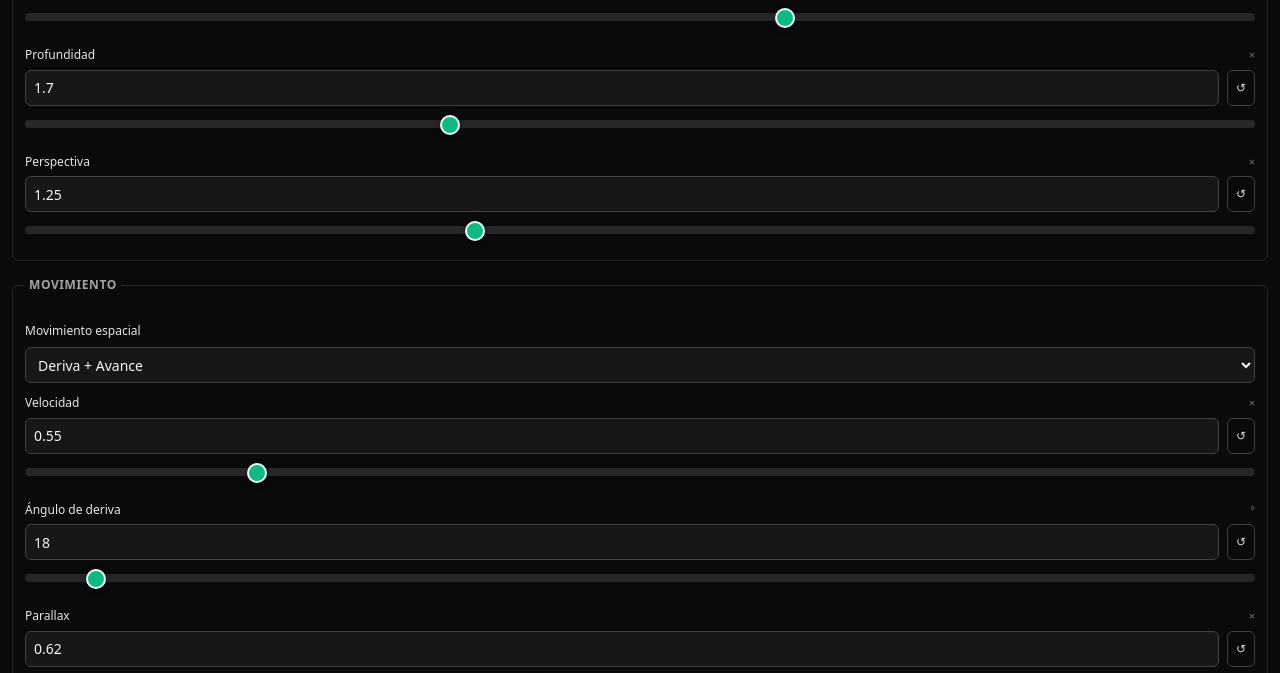
Test: integrated inspector tabs › expone controles Stellar condicionales y escribe en la autoridad compartida
(page scrolled)
Select "Deriva" in the dropdown labelled "Movimiento espacial" at (640, 365), box top-left (25, 347), bottom-right (1255, 383)
(page scrolled)
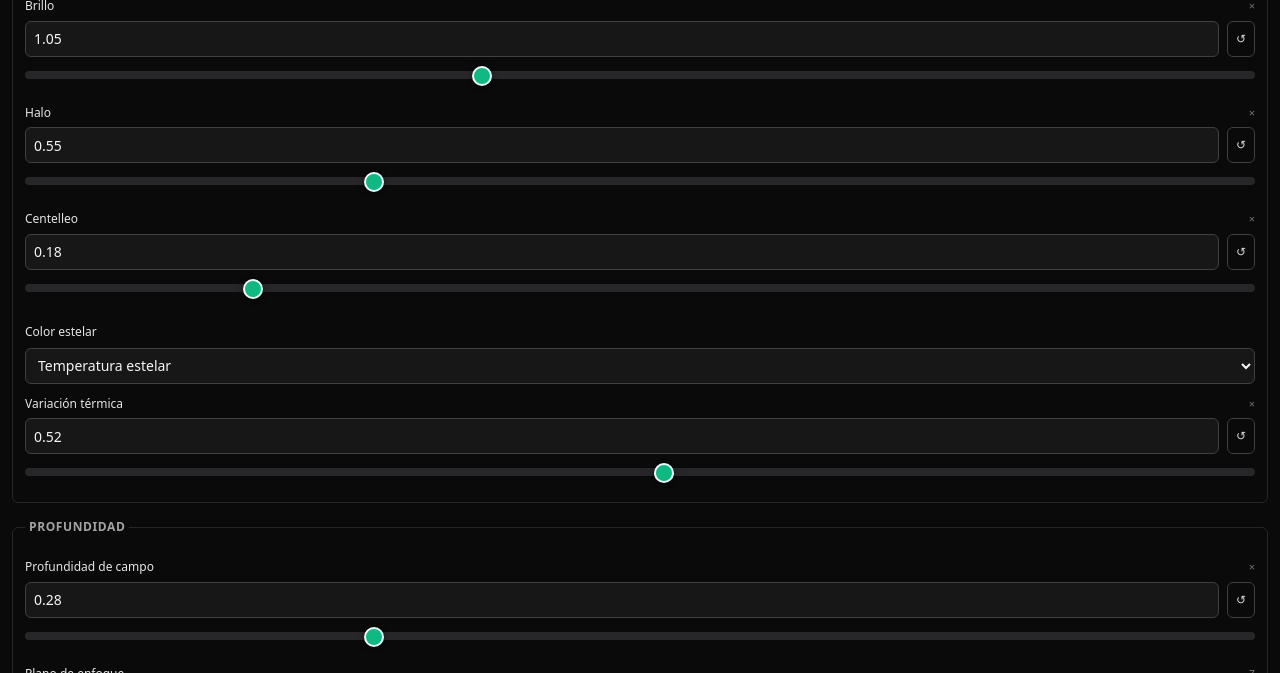
Check: the slider named "Variación térmica deslizador" is shown, box top-left (25, 460), bottom-right (1255, 484)
Select "Bicolor" in the dropdown labelled "Color estelar" at (640, 366), box top-left (25, 348), bottom-right (1255, 384)
(page scrolled)
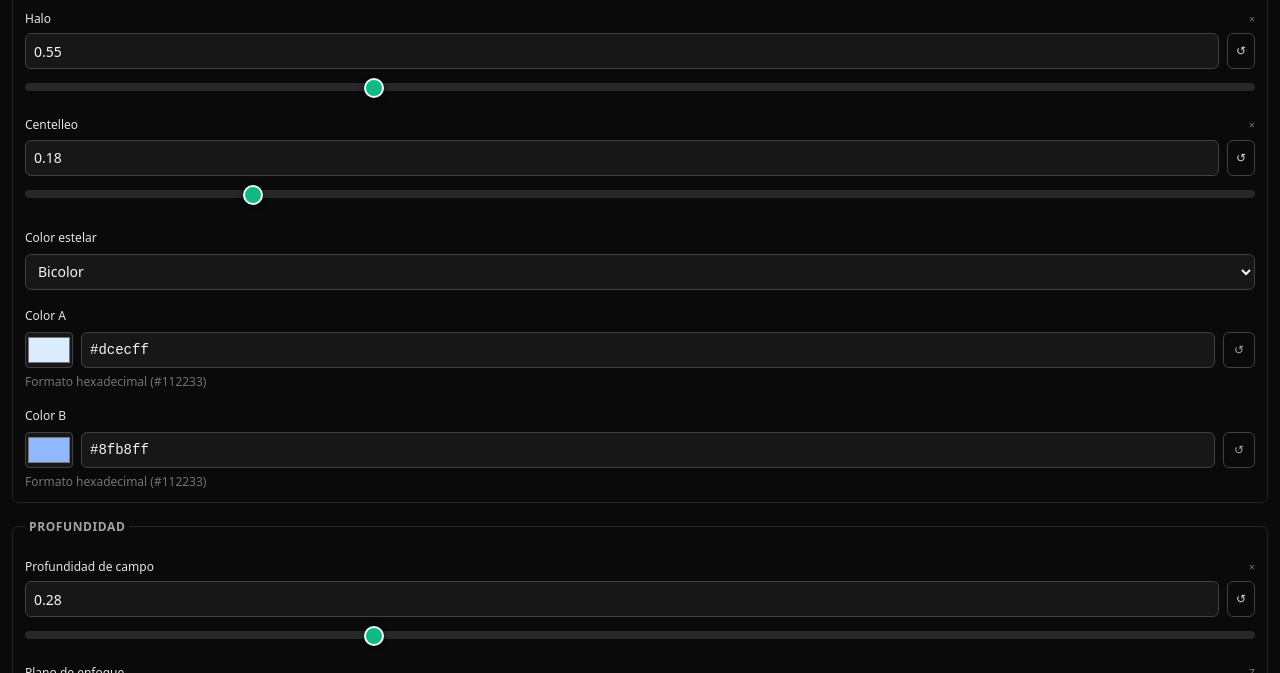
Check: the label labelled "Variación térmica" is gone
Check: the colour field labelled "Color A" is shown, box top-left (25, 332), bottom-right (73, 368)
Check: the colour field labelled "Color B" is shown, box top-left (25, 432), bottom-right (73, 468)
Set the slider named "Profundidad de campo deslizador" to "0" at (33, 635), box top-left (25, 623), bottom-right (1255, 647)
(page scrolled)
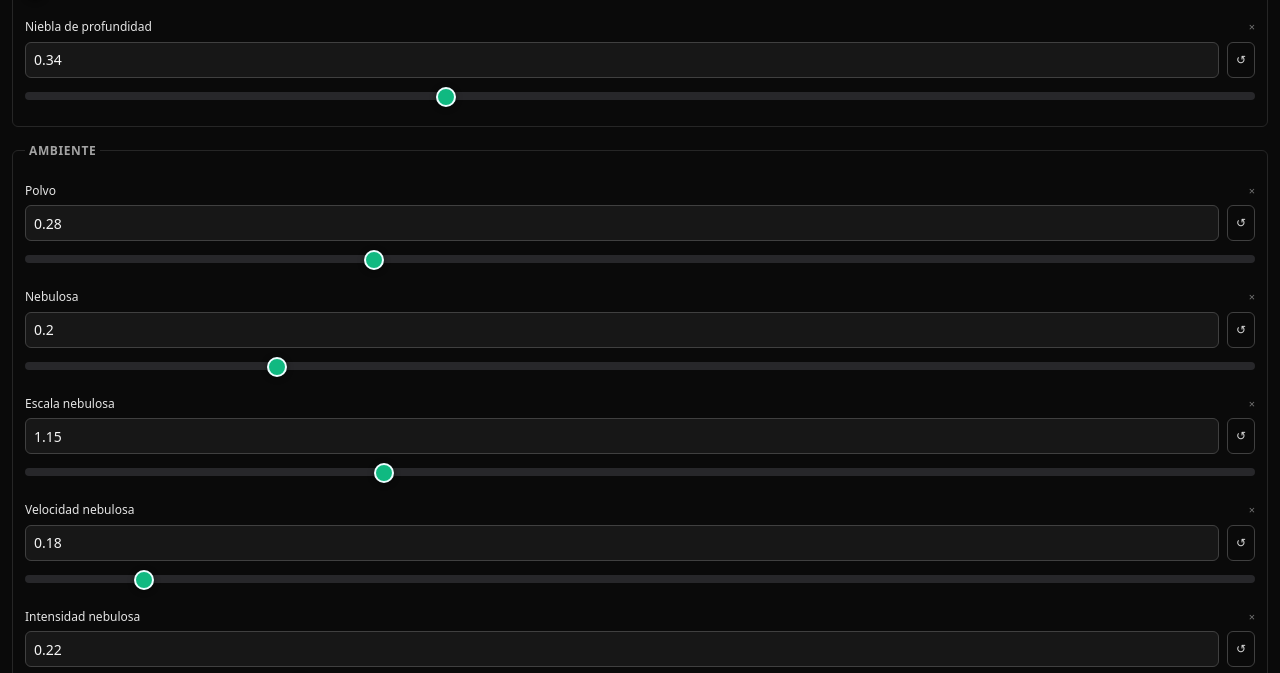
Set the slider named "Nebulosa deslizador" to "0" at (33, 366), box top-left (25, 354), bottom-right (1255, 378)
(page scrolled)
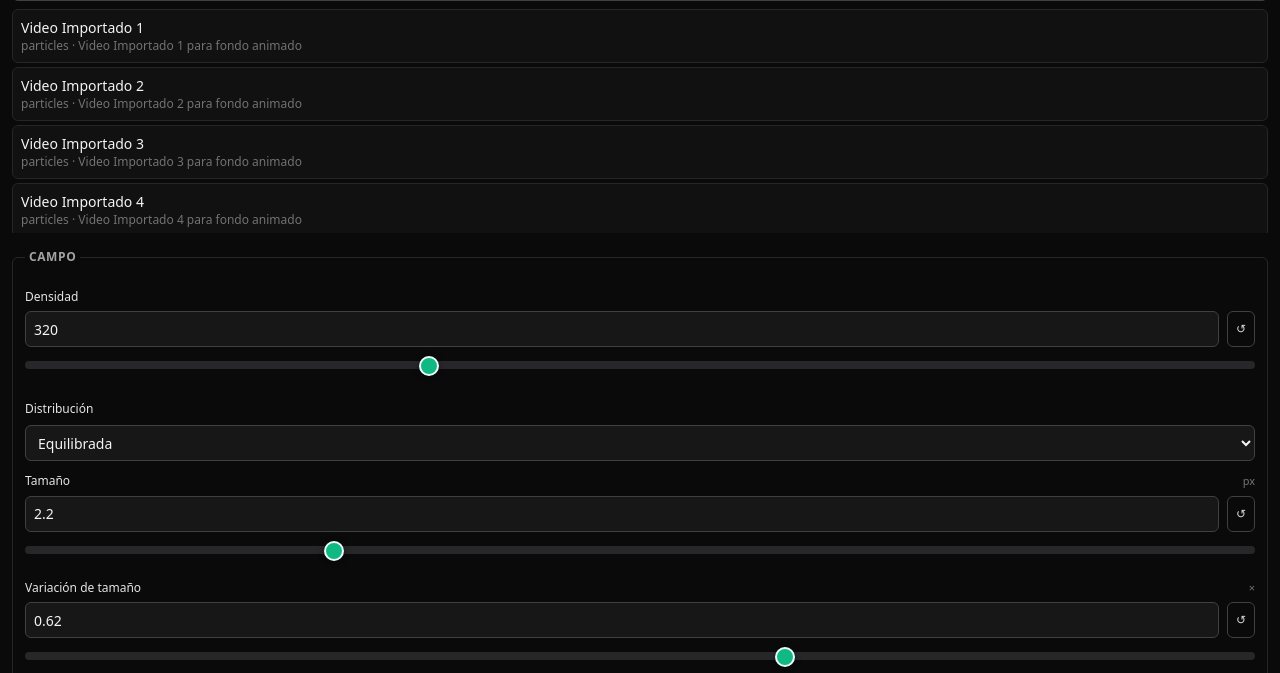
Check: the label labelled "Escala nebulosa" is gone
Set the slider named "Densidad deslizador" to "480" at (654, 365), box top-left (25, 353), bottom-right (1255, 377)
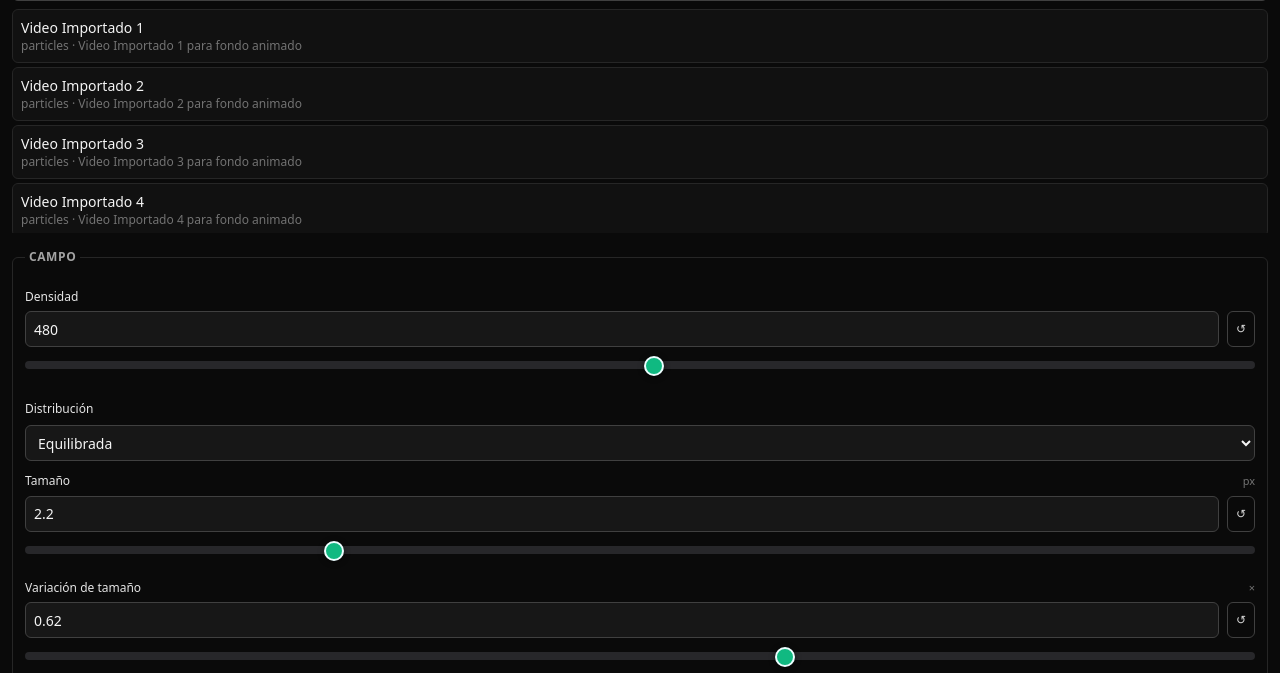
Double-click the slider named "Densidad deslizador".
double_click(640, 365)  # box top-left (25, 353), bottom-right (1255, 377)
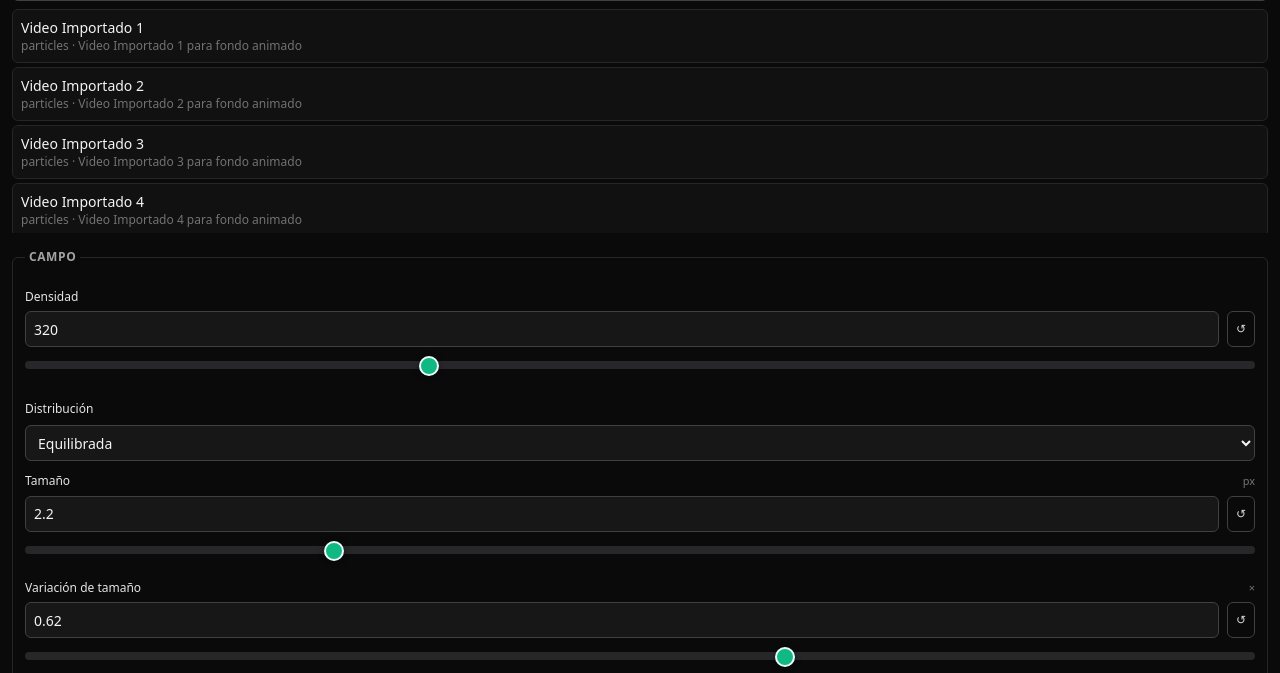
Check: the number field labelled "Densidad" holds "320", box top-left (25, 311), bottom-right (1219, 347)
